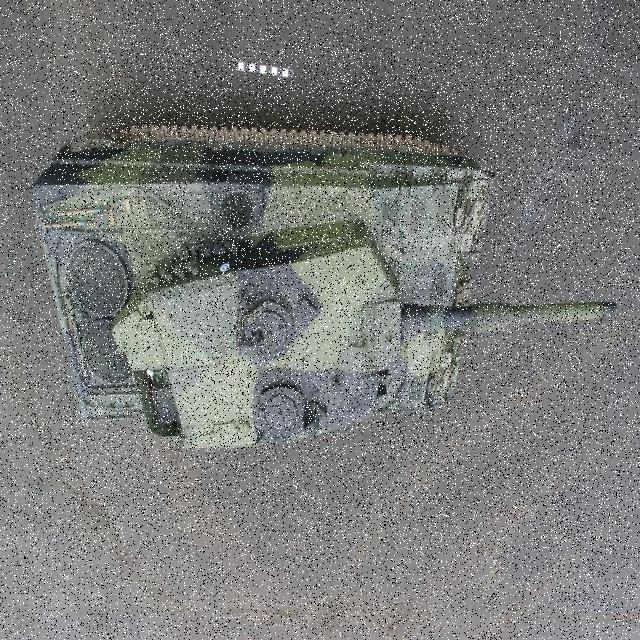MIL_MBT: (63, 43, 632, 549)
